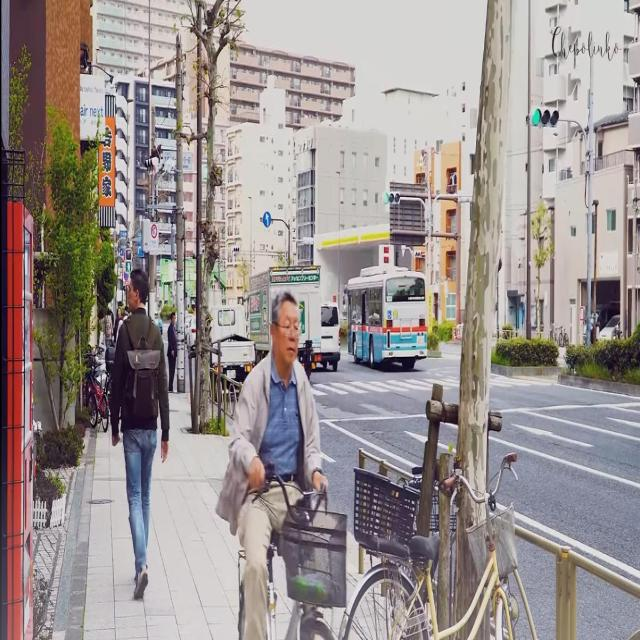bus: (343, 265, 429, 371)
